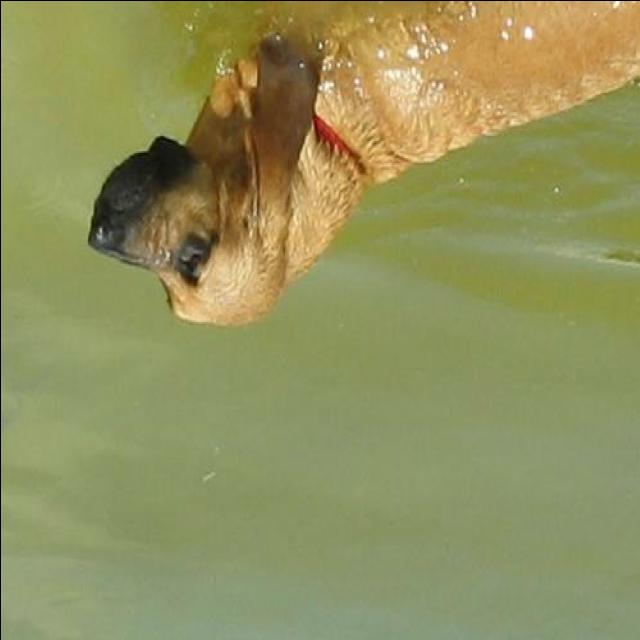bloodhound: (87, 1, 639, 326)
